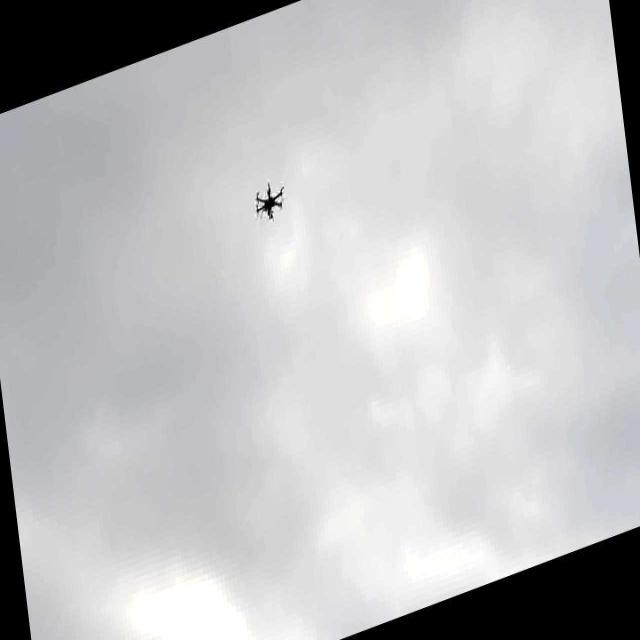drone: (249, 173, 291, 232)
